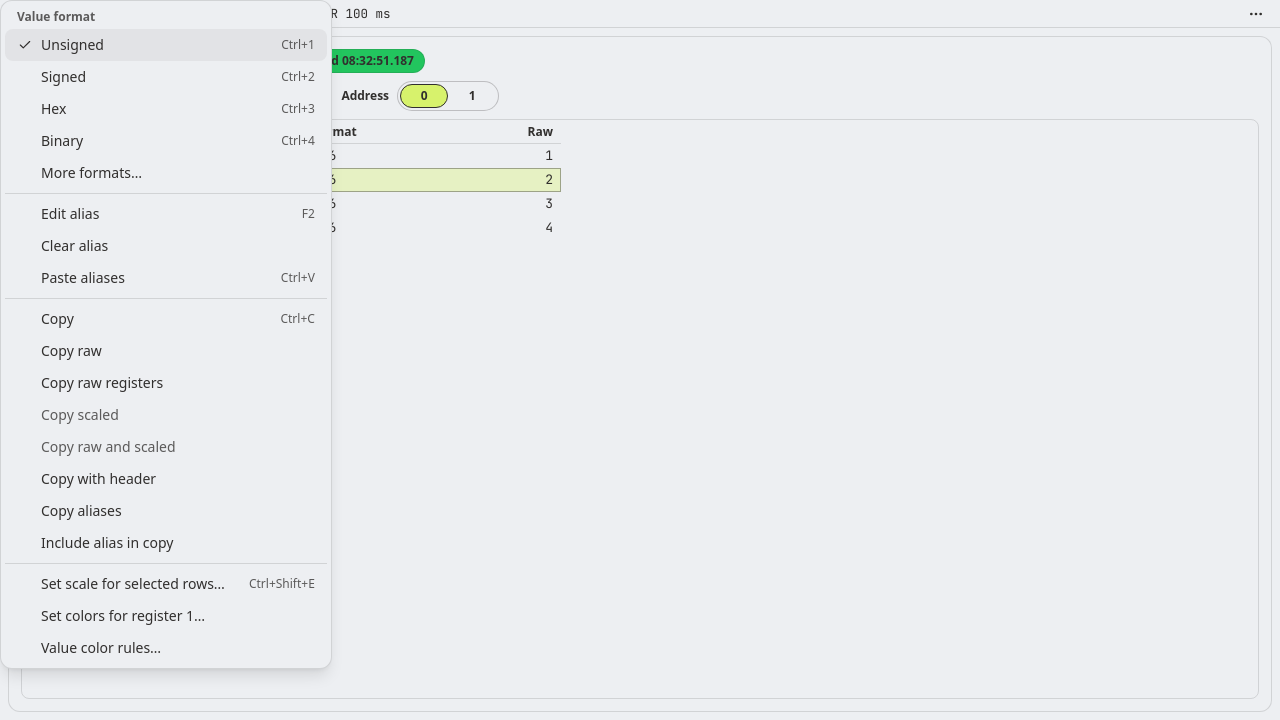
Test: row menu of the mixed grid in workspace › More formats… opens the dialog for the row, not the Poll setup, and applies nothing
Expected: the menu item "Format / endian" is not shown
Step 1. Click the menu item "More formats…" → (92, 172), box [5,157,327,189]
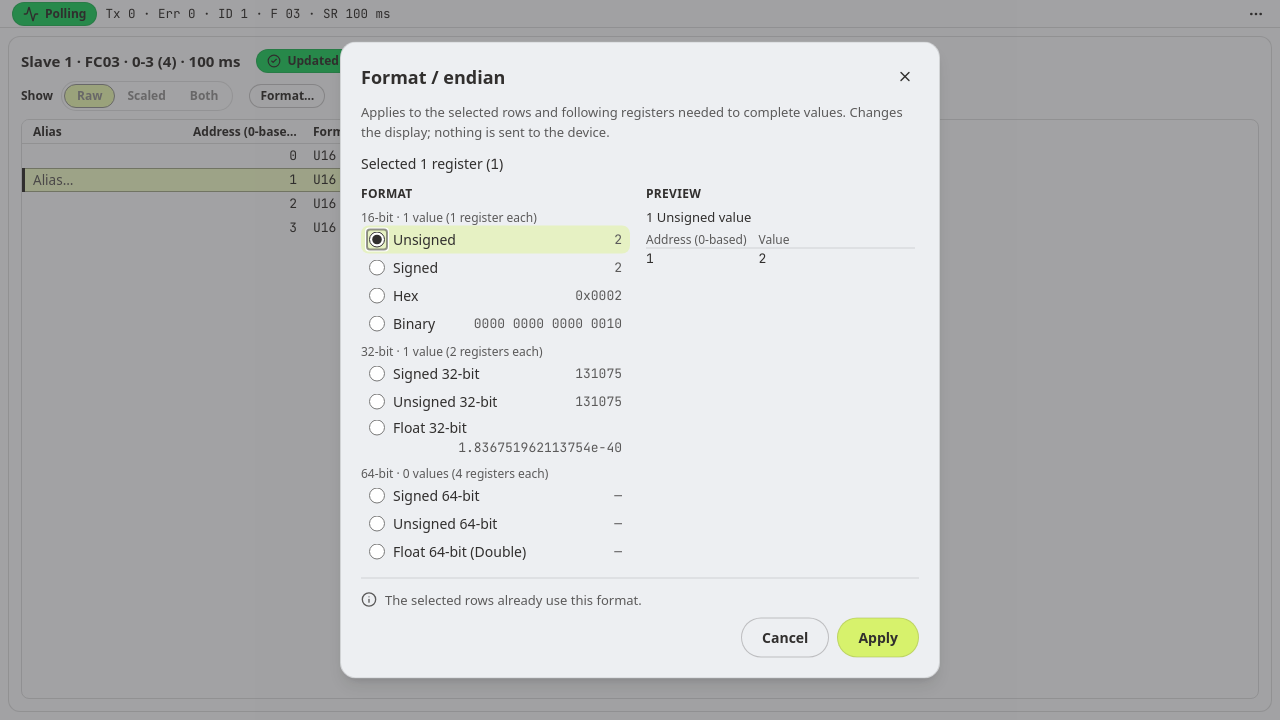
Result: the radio button labelled "Unsigned" is checked at [369,232,385,248]
